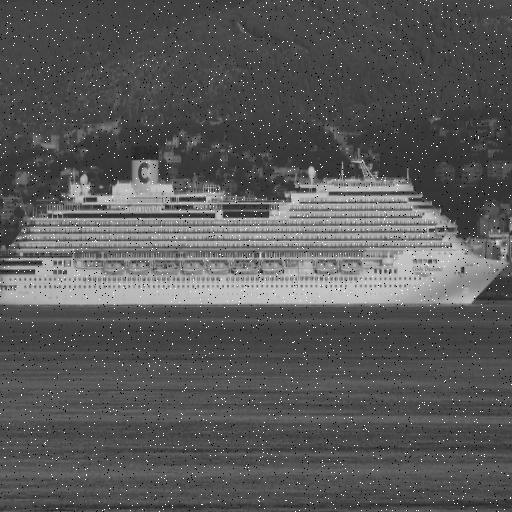cruises: (1, 137, 512, 318)
